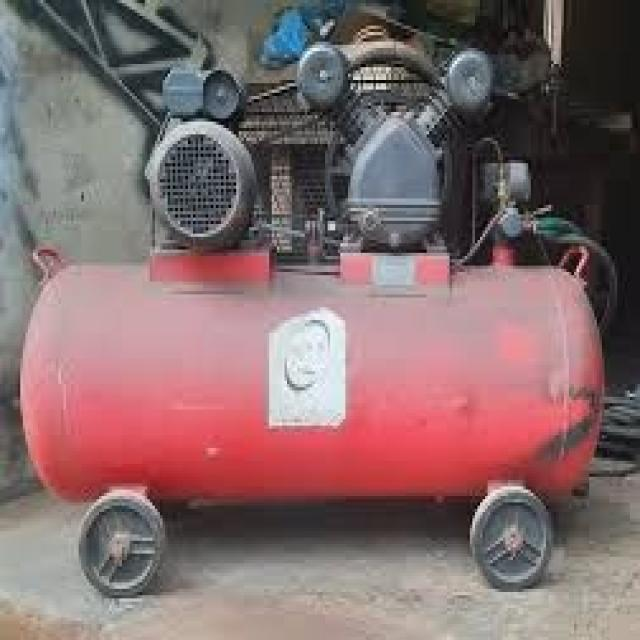compressor: (19, 32, 622, 578)
